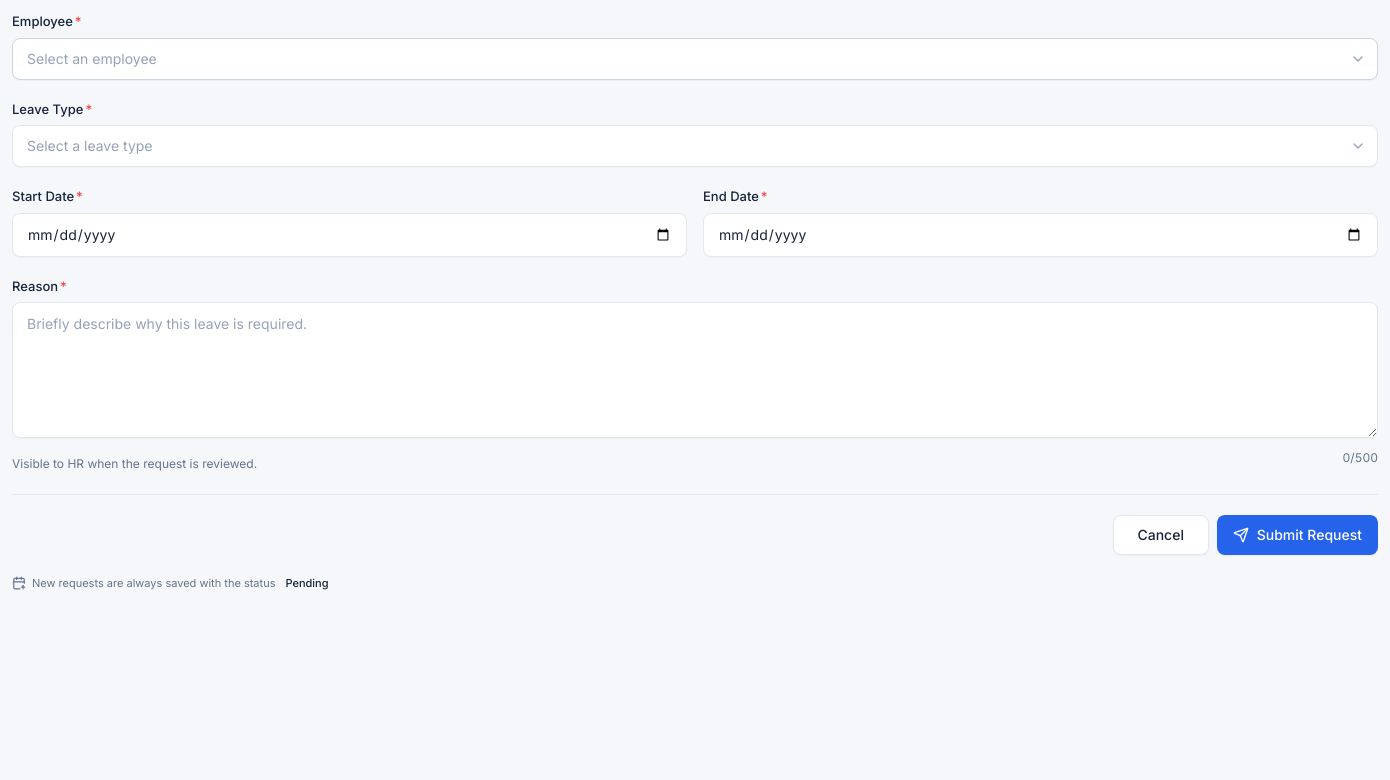
it: LeaveRequestForm validation › displays backend validation errors returned by the API
This screenshot has width=1390, height=780.
Select "Nimali Fernando · HR" in the dropdown labelled "Employee*". click: (695, 58)
box: [12,38,1378,80]
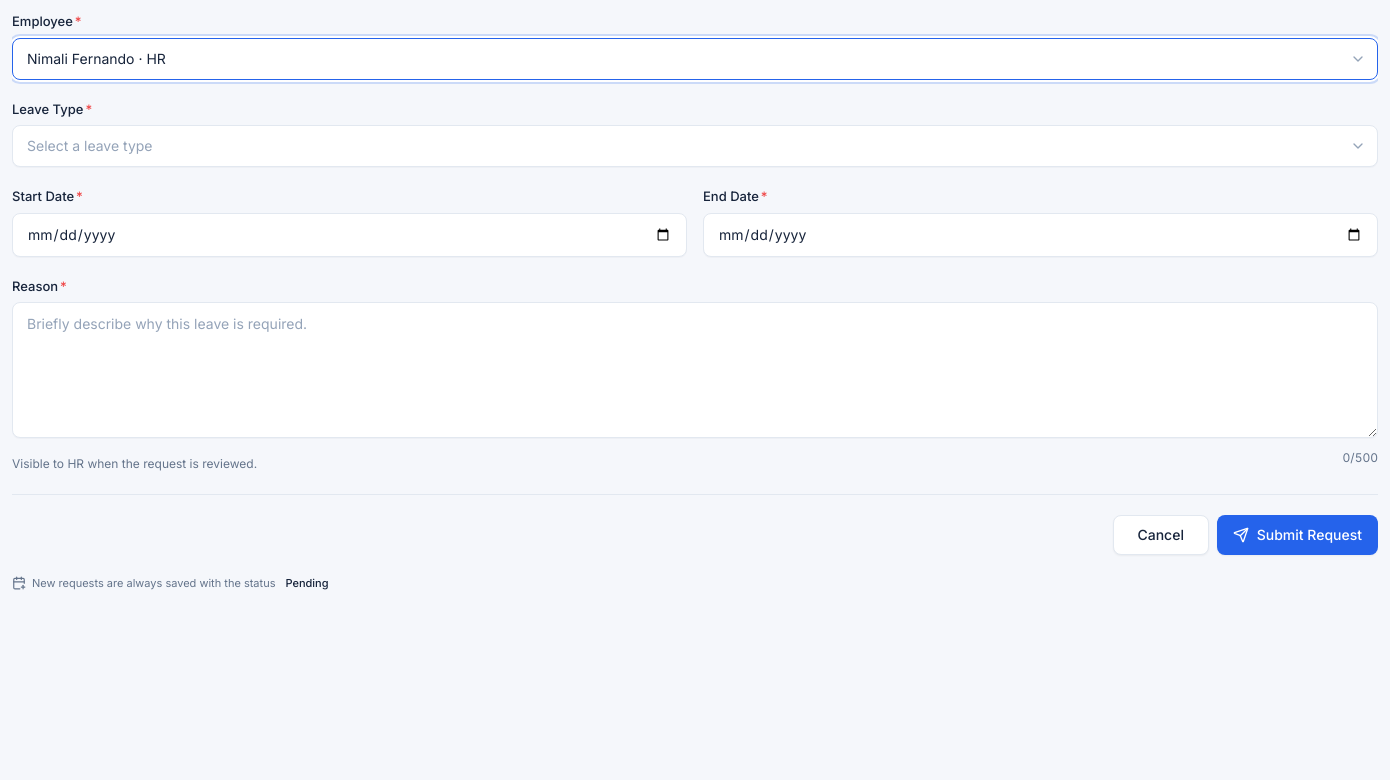
Select "Casual" in the dropdown labelled "Leave Type*". click: (695, 146)
box: [12,125,1378,167]
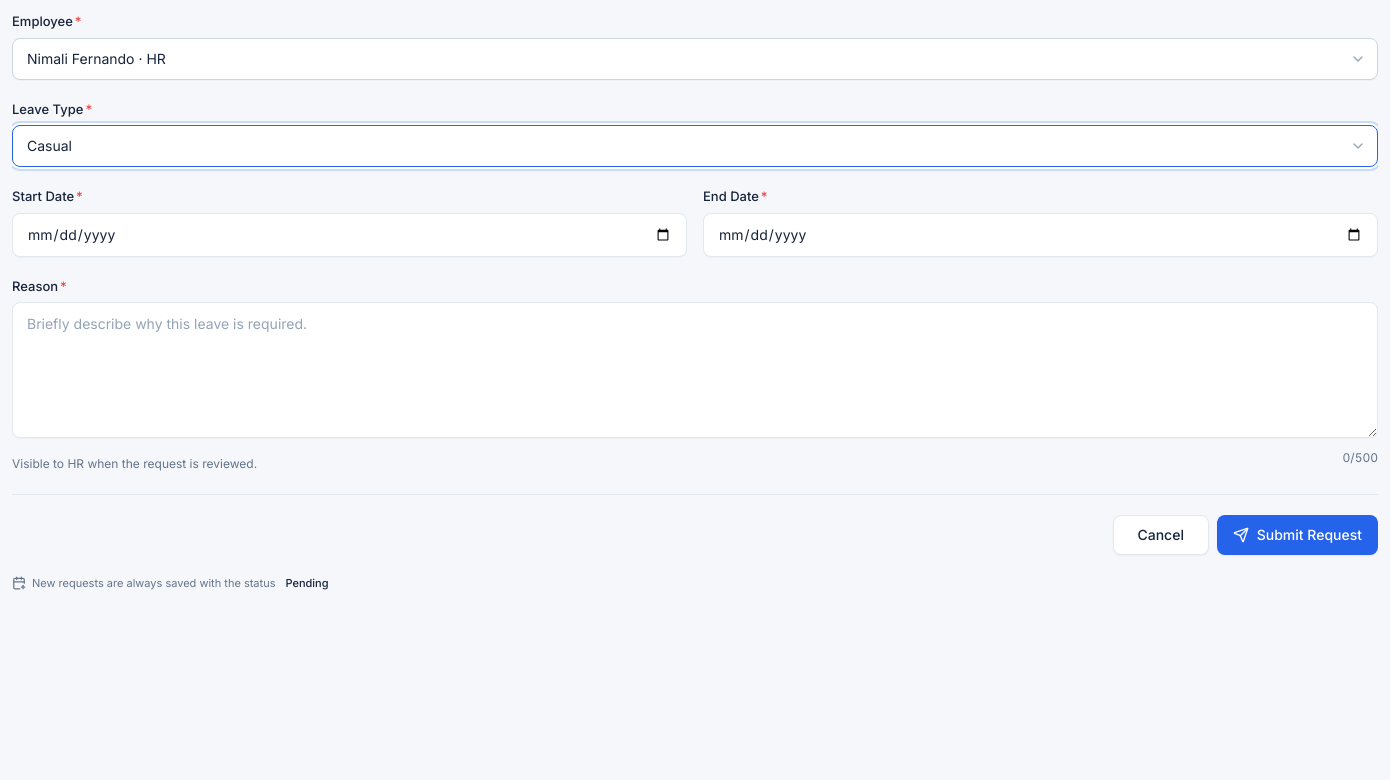
Type "2026-12-01" into the date field labelled "Start Date*". click: (350, 234)
box: [12,212,687,256]
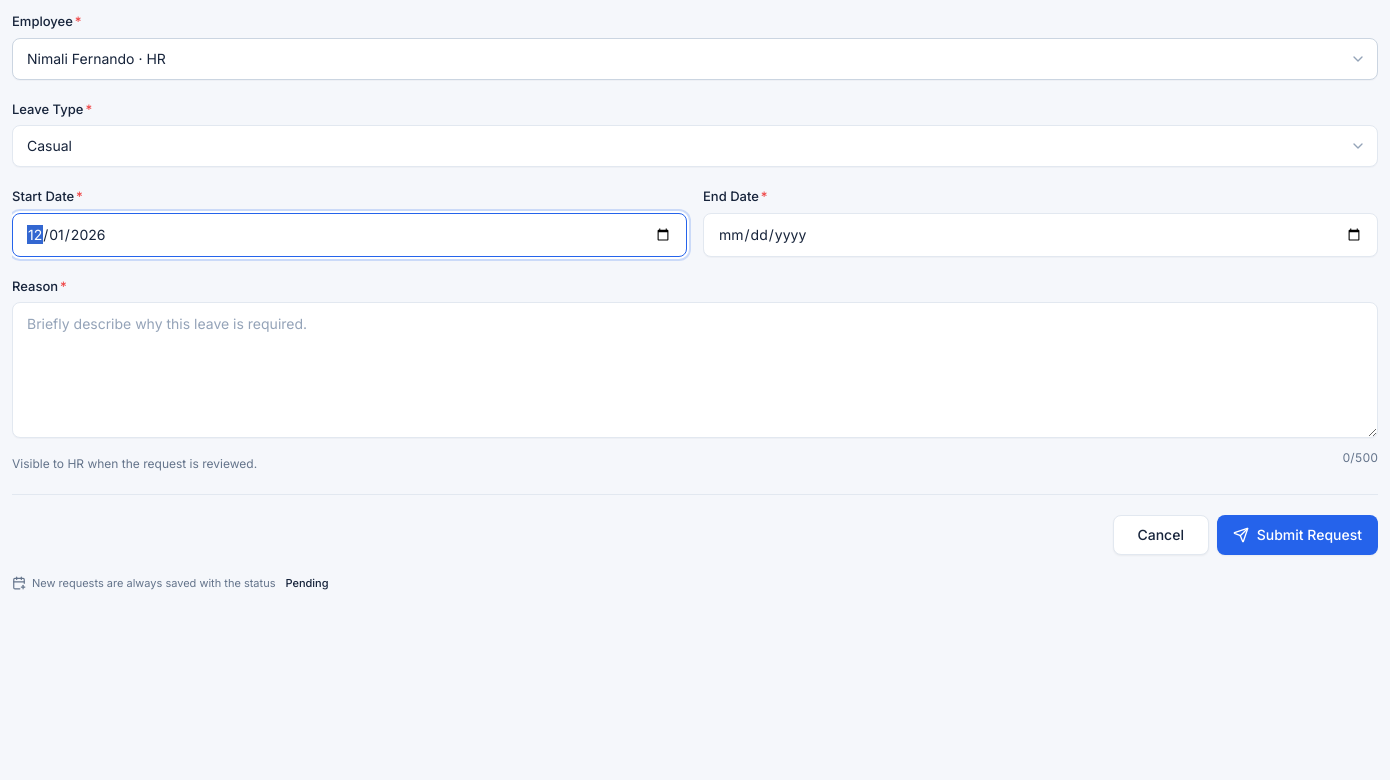
Type "2026-12-01" into the date field labelled "End Date*". click: (1040, 234)
box: [703,212,1378,256]
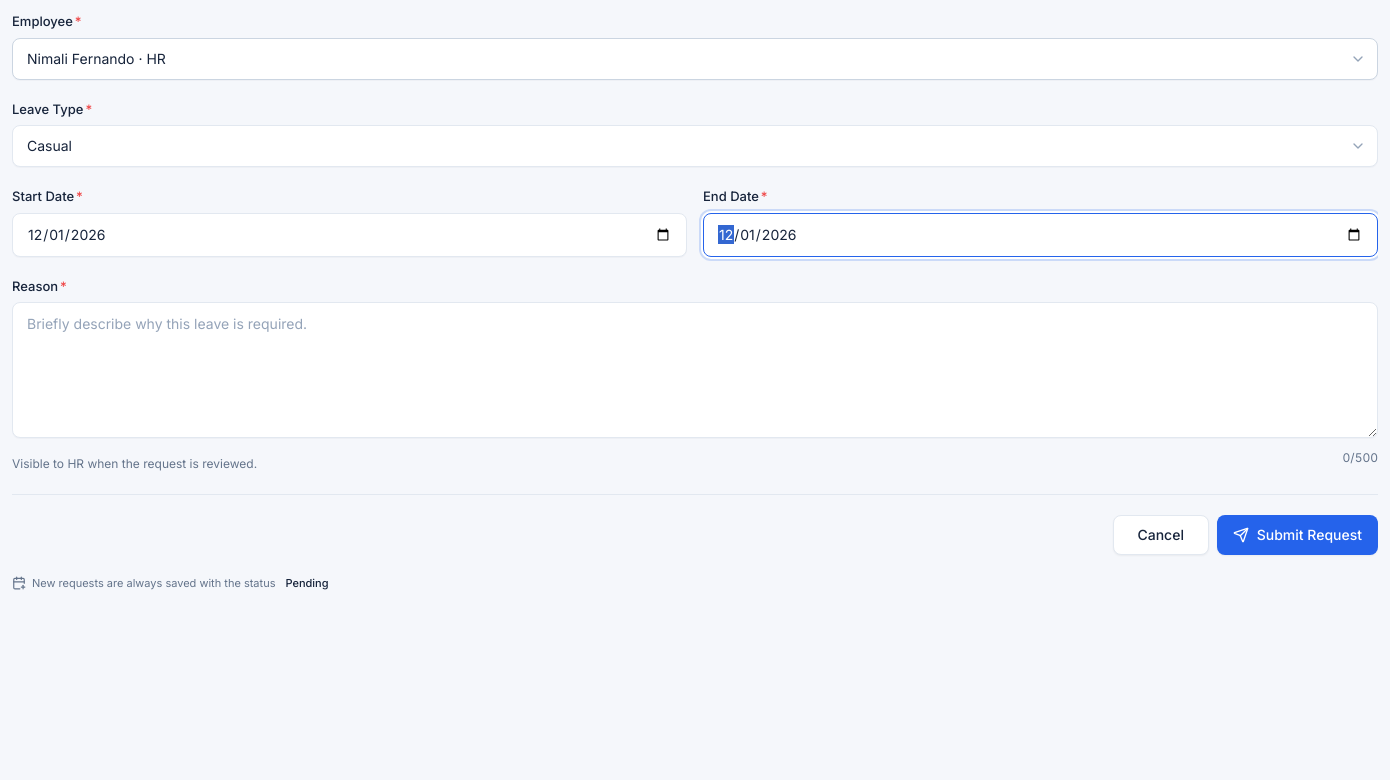
Type "Personal errand" into the text box labelled "Reason*". click: (695, 370)
box: [12,302,1378,438]
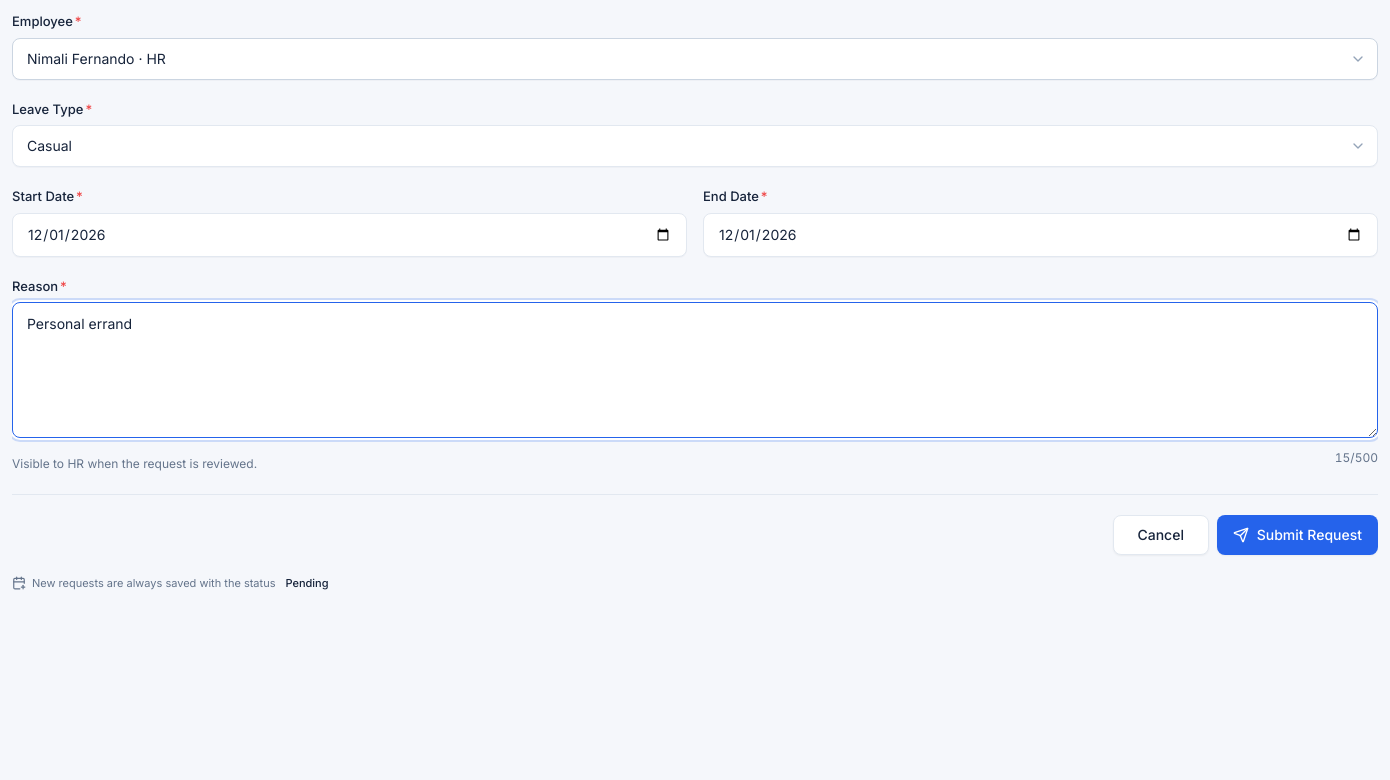
Click the button "Submit Request". click: (1297, 535)
box: [1217,515,1378,555]
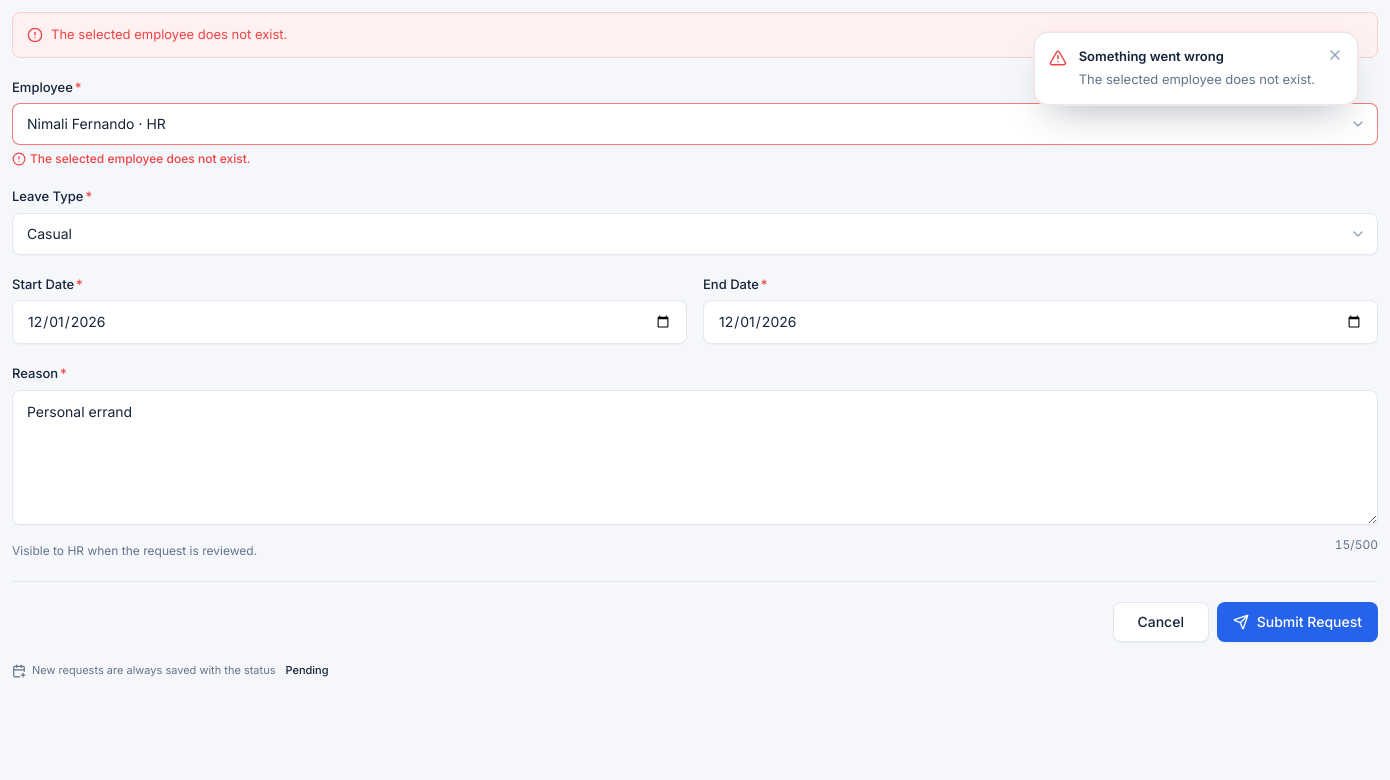
Check: the 1st text "The selected employee does not exist." is shown, box [51,25,287,44]
